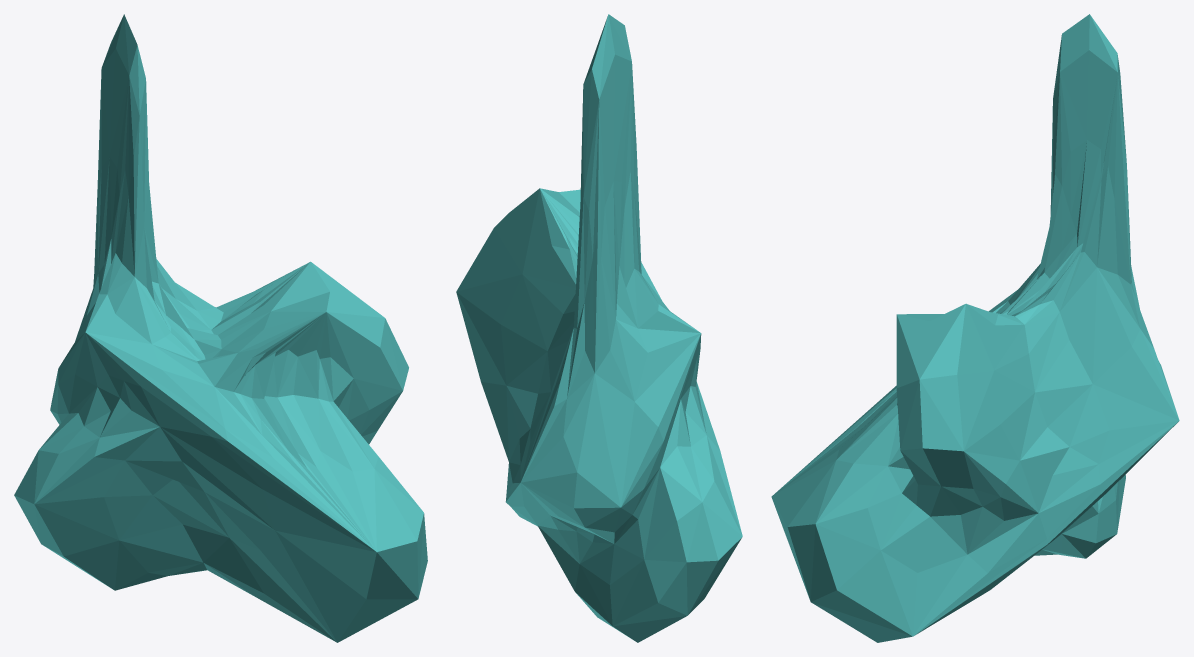
3 views of the same model, side by side, from view 1: azimuth 30°, elevation 25°; view 2: azimuth 150°, elevation 25°; view 3: azimuth 270°, elevation 25° (orthographic). The views are drawn at different scales.
Visible parts, largest first — view 1: 268_Cube.1097; view 2: 268_Cube.1097; view 3: 268_Cube.1097.
Boxes of the visible parts, bbox=[...] form: 268_Cube.1097: bbox=[14, 14, 427, 642]; 268_Cube.1097: bbox=[456, 14, 742, 642]; 268_Cube.1097: bbox=[771, 14, 1179, 642].
Bounding box in the file's own units: 9.82 × 17.73 × 11.48.
